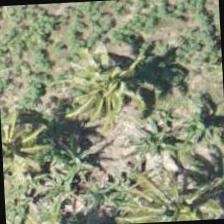Kelapa_Sawit: (75, 34, 170, 129), (128, 164, 222, 222), (0, 99, 53, 192)
